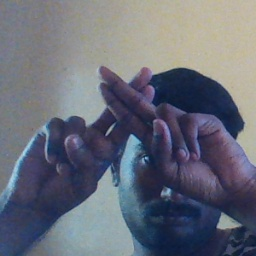F: (76, 58, 182, 171)
